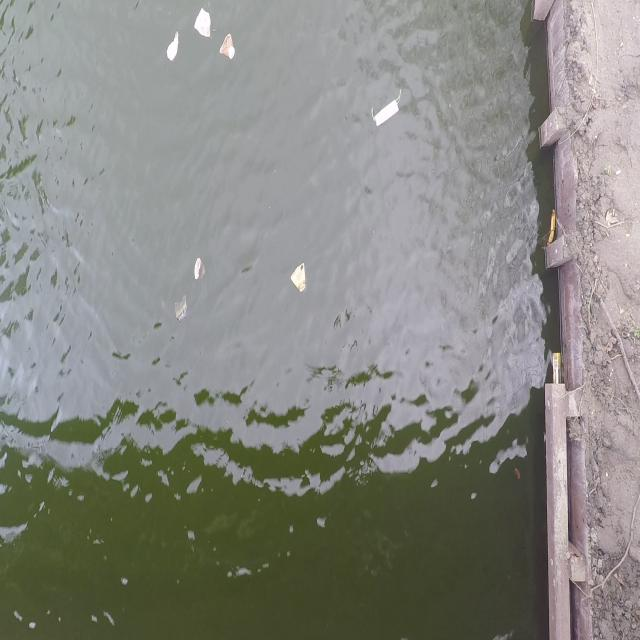Non plastique: (365, 77, 411, 134), (189, 8, 213, 42), (288, 258, 310, 295), (215, 31, 237, 67), (188, 255, 206, 285)
